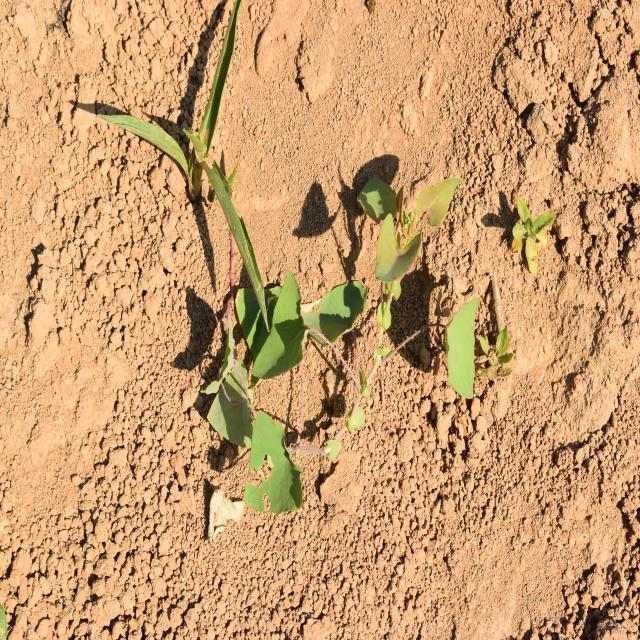Asiatic_Smartweed: (185, 256, 334, 522), (356, 161, 486, 404)
